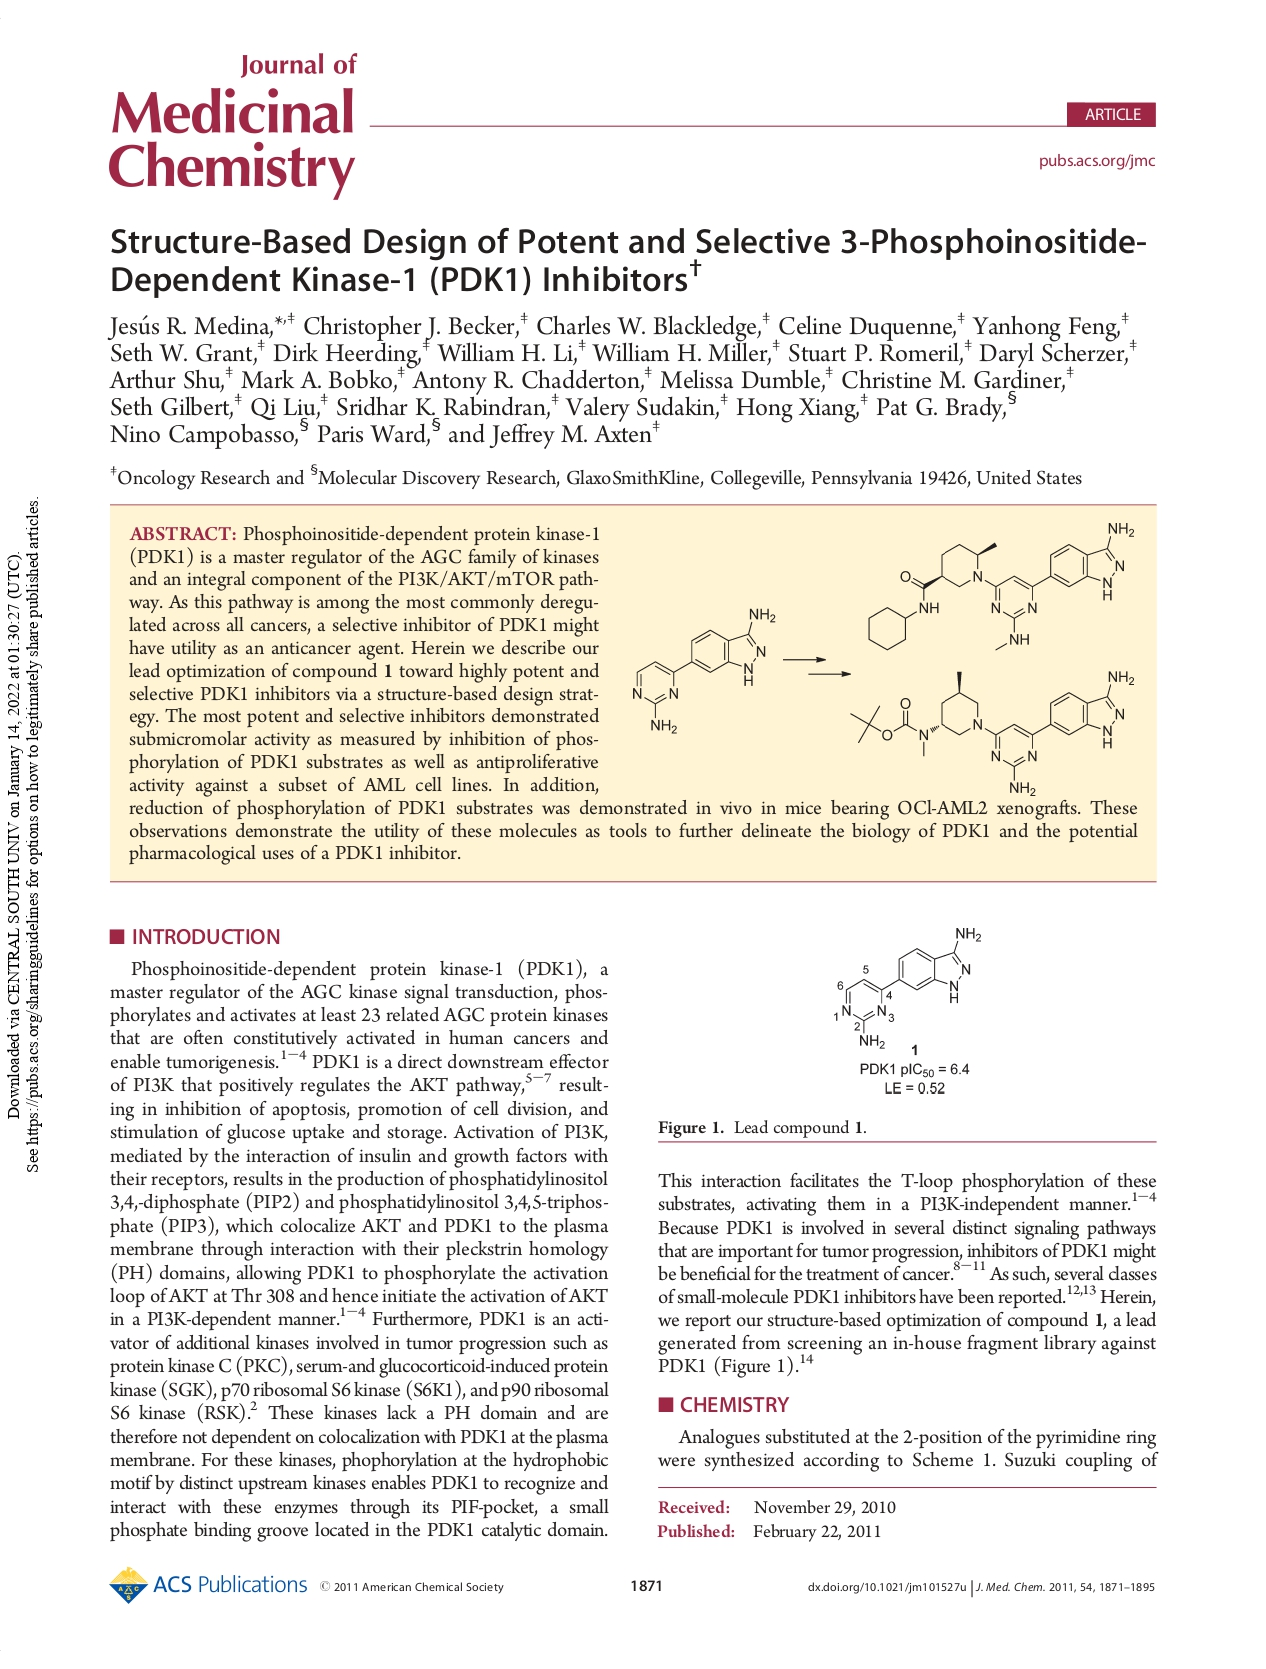exist_molecular: (847, 668, 1137, 798), (863, 519, 1137, 654), (630, 606, 777, 735), (840, 924, 983, 1049)
